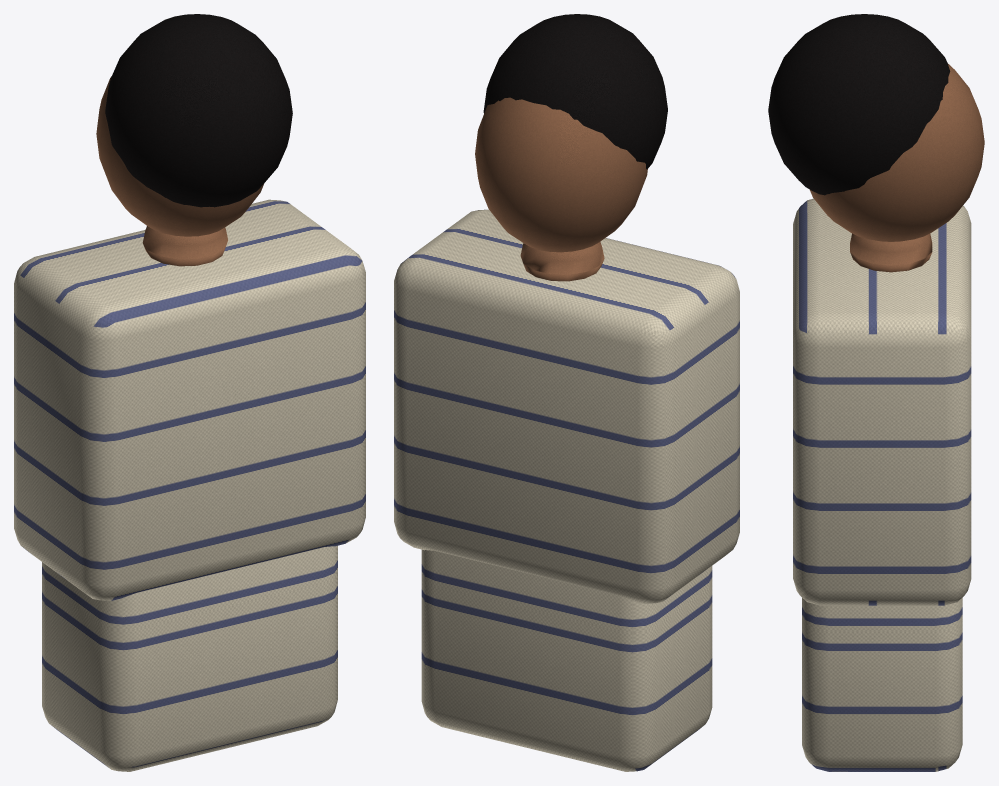
File: torso.obj
3 views of the same model, side by side, from view 1: azimuth 30°, elevation 25°; view 2: azimuth 150°, elevation 25°; view 3: azimuth 270°, elevation 25° (orthographic).
Visible parts, largest first — view 1: torso; view 2: torso; view 3: torso.
Part boxes in pixels (box(x1,y1,x2,y2)): torso: box(14, 14, 365, 771); torso: box(394, 14, 739, 771); torso: box(768, 14, 984, 771).
Size of the model in its own units: 0.36 by 0.8702 by 0.243.
3 materials, 3 textured.
